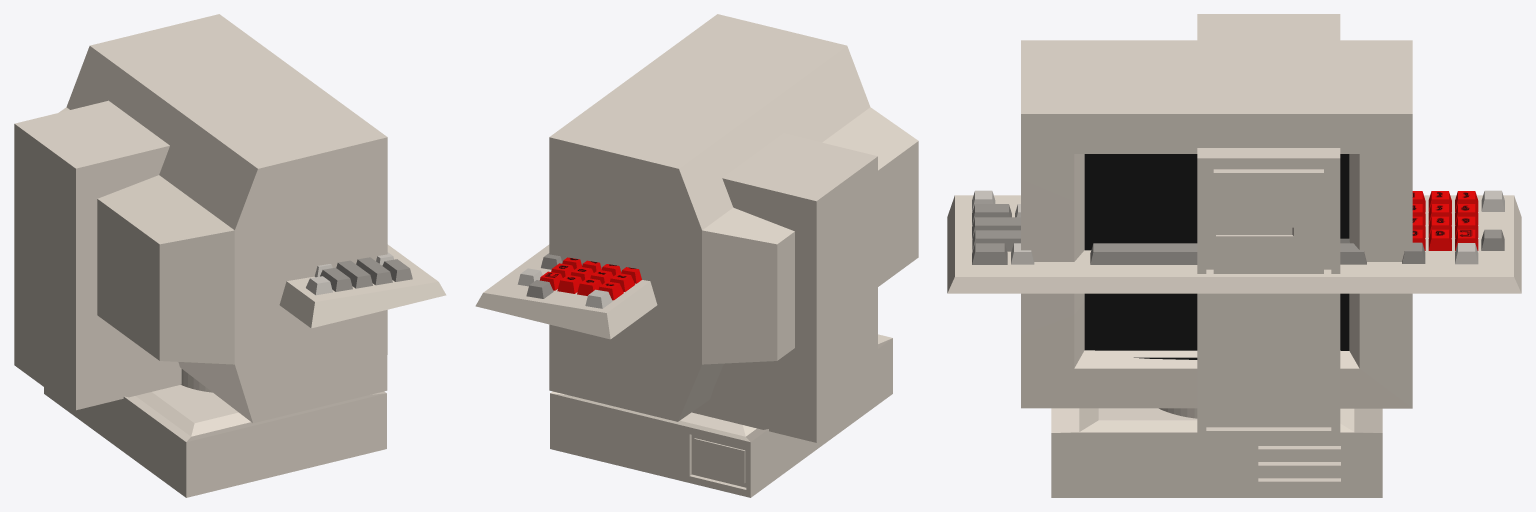
The model's file is keyboard.glb.
3 renders of one model, left to right at view 1: azimuth 30°, elevation 25°; view 2: azimuth 150°, elevation 25°; view 3: azimuth 270°, elevation 25°, orthographic. The views are drawn at different scales.
Parts seen in each view (by area): view 1: computerscreen, Cube.001, Cube, toprowkeys.008, key.007, key.008, key.006; view 2: computerscreen, Cube.001, Cube, toprowkeys.008, numpad; view 3: computerscreen, Cube.001, Cube, toprowkeys.008, numpad, space, key.005, key.008, key.007.
Boxes of the visible parts, box(x1,y1,x2,y2) form: computerscreen: box(58, 14, 387, 423); Cube.001: box(14, 100, 181, 410); Cube: box(44, 385, 386, 497); toprowkeys.008: box(279, 244, 446, 328); key.007: box(336, 260, 372, 288); key.008: box(356, 257, 392, 285); key.006: box(320, 267, 352, 291); computerscreen: box(549, 14, 918, 421); Cube.001: box(692, 133, 877, 442); Cube: box(550, 334, 892, 497); toprowkeys.008: box(475, 244, 657, 339); numpad: box(540, 257, 641, 300); computerscreen: box(1021, 40, 1412, 408); Cube.001: box(1197, 14, 1340, 439); Cube: box(1051, 408, 1382, 497); toprowkeys.008: box(947, 195, 1521, 293); numpad: box(1412, 191, 1478, 250); space: box(1090, 243, 1197, 264); key.005: box(972, 243, 1007, 264); key.008: box(972, 230, 1020, 251); key.007: box(972, 217, 1020, 238).
Bounding box in the file's own units: 2.79 × 3.29 × 4.54.
Materials: 5 (1 with a texture image).
